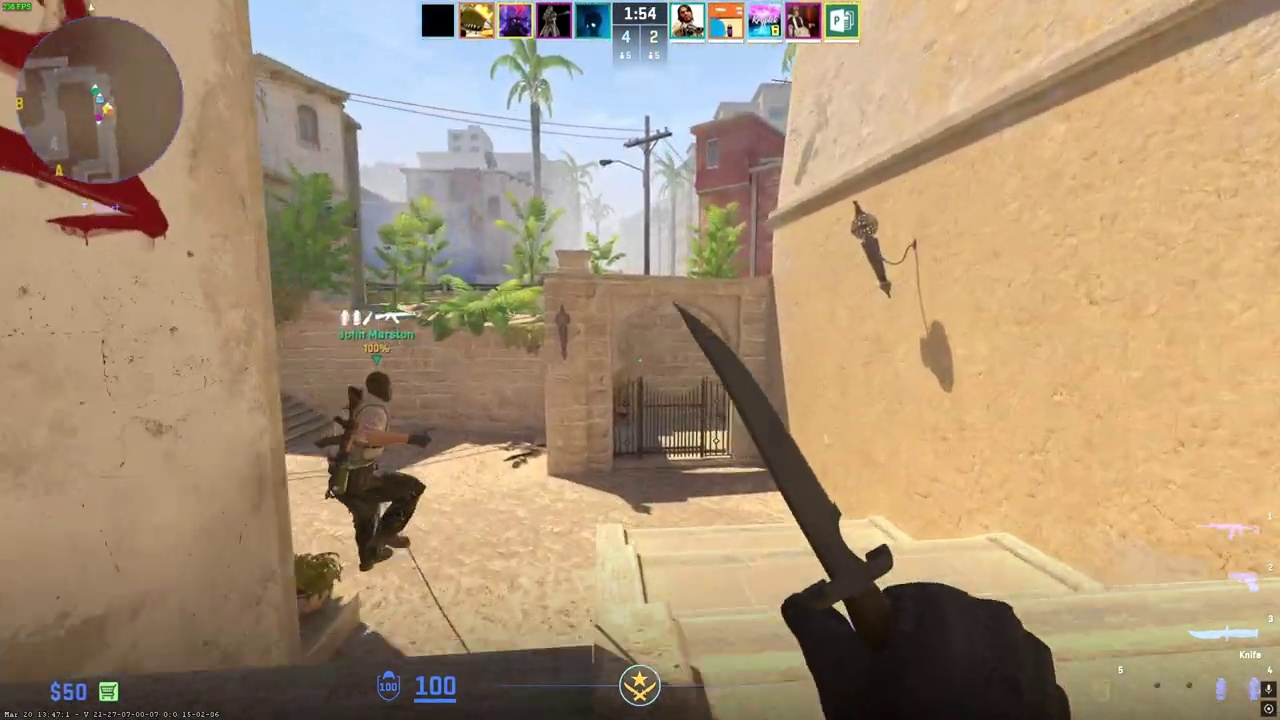Terrorist: (326, 371, 424, 571)
